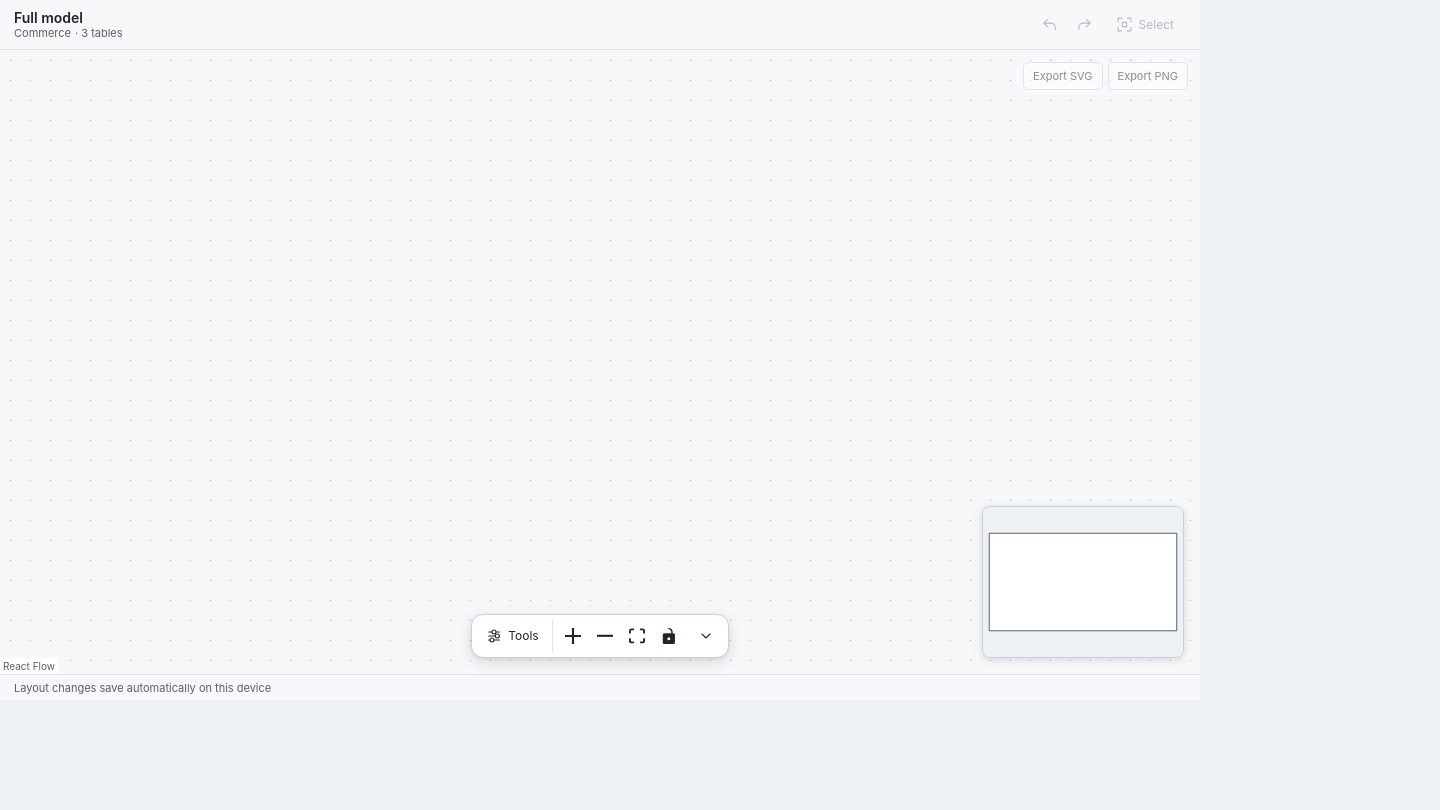
Scenario: Model relationship deletion › confirms manager deletion and drops the pending request when the source changes
Click the button with aria-label "Canvas tools" at (513, 636), box [477, 620, 548, 652]
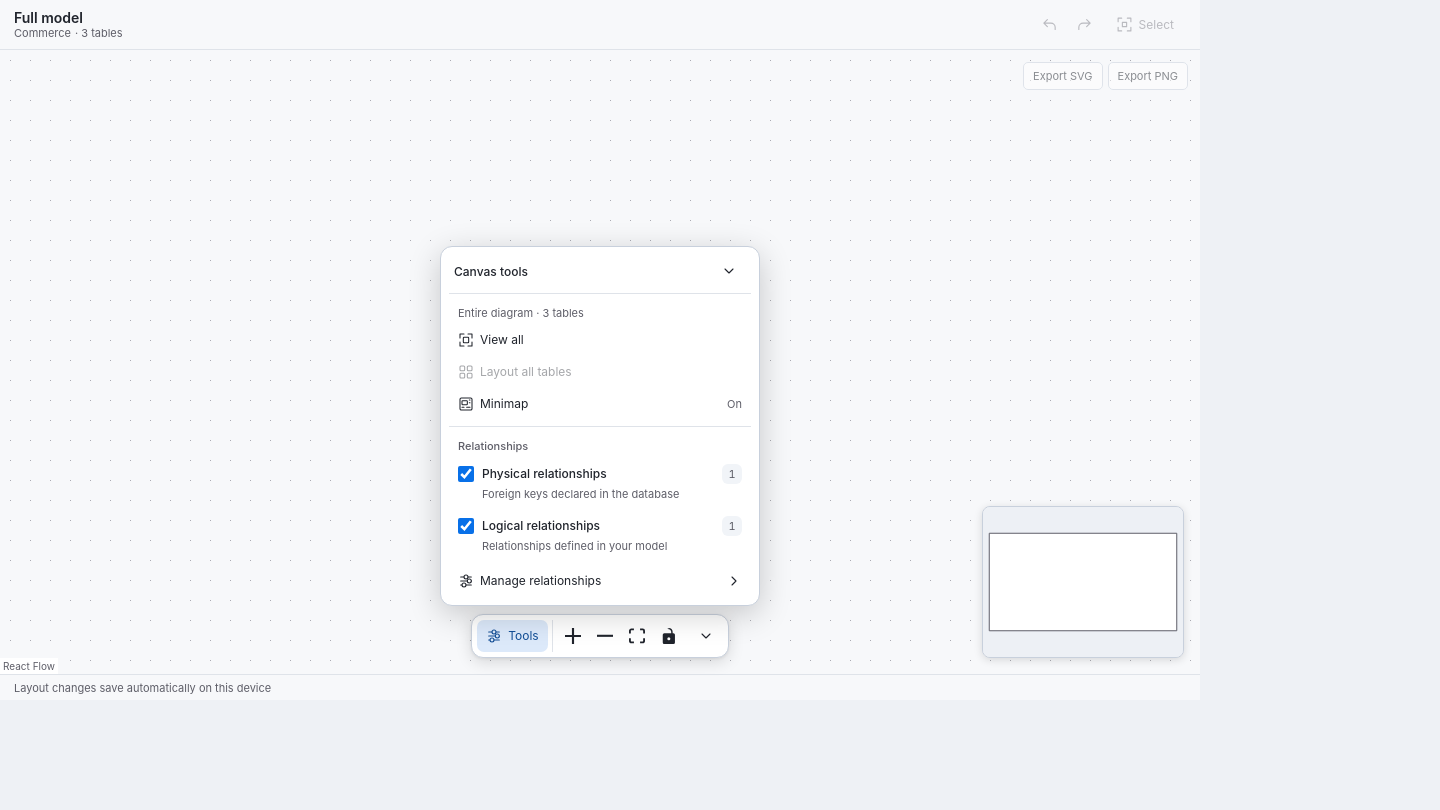
Click the button "Manage relationships" at (600, 581), box [449, 565, 751, 597]
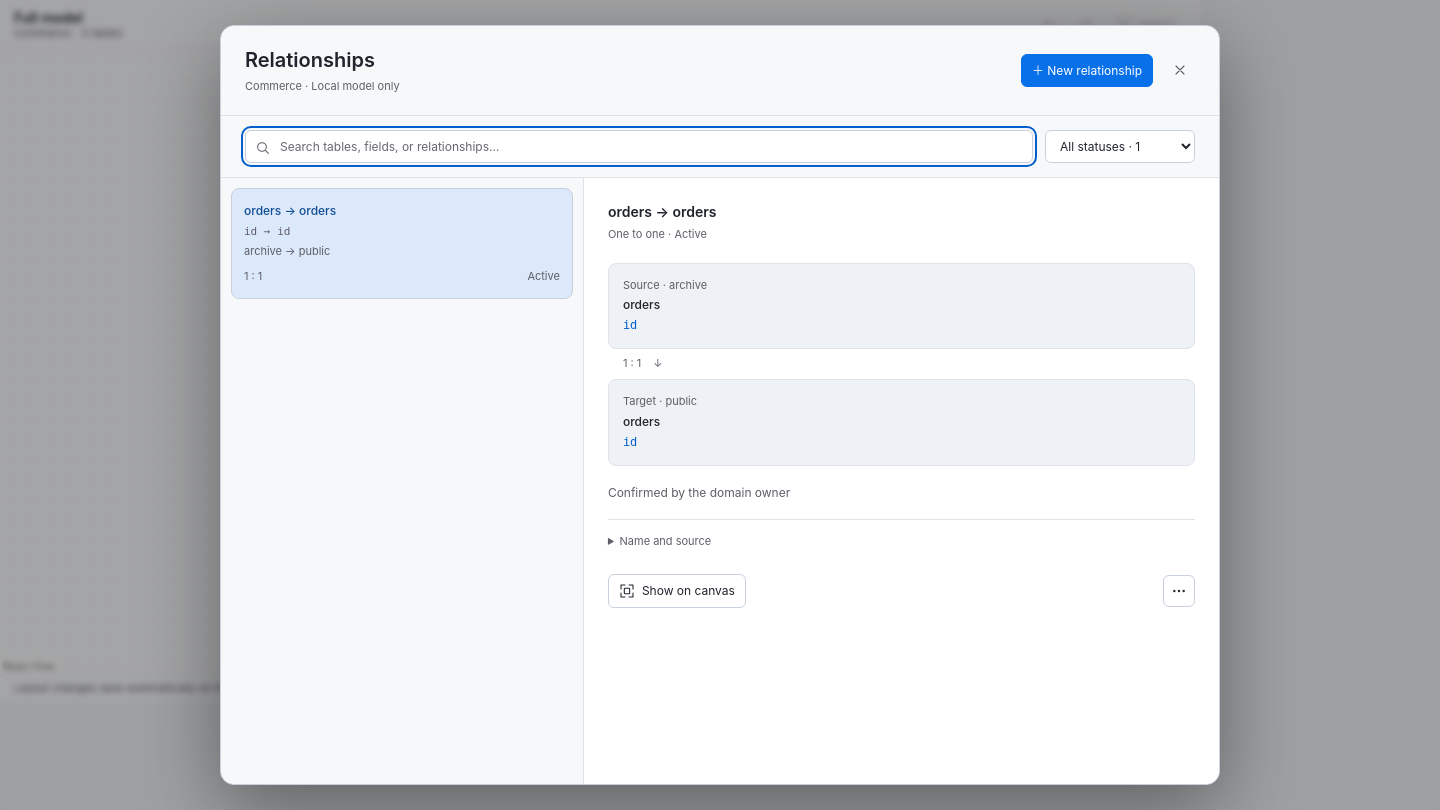
Click the heading named "More relationship actions" at (1179, 591), box [1163, 575, 1195, 607]
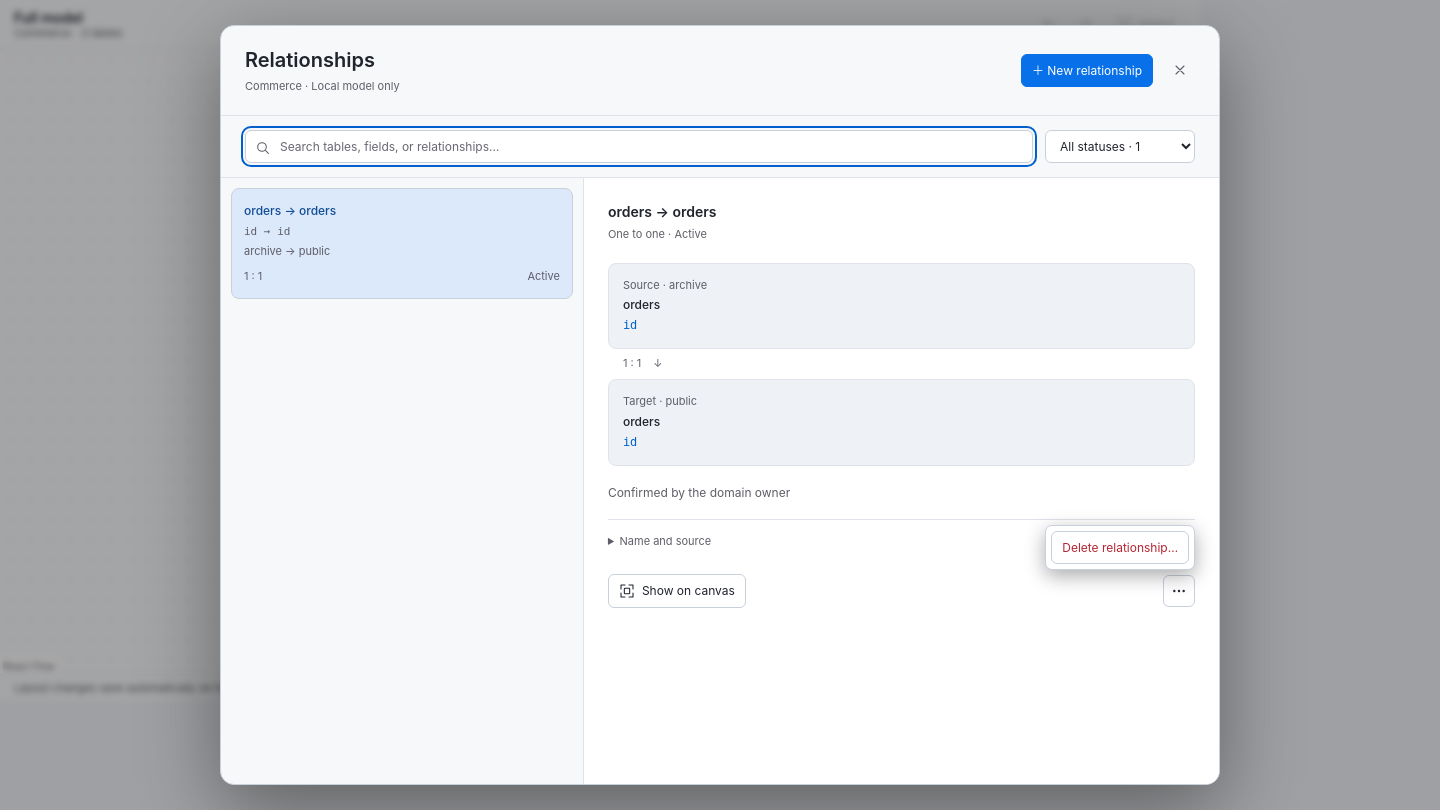
Click the button "Delete relationship…" at (1120, 547), box [1051, 530, 1189, 564]
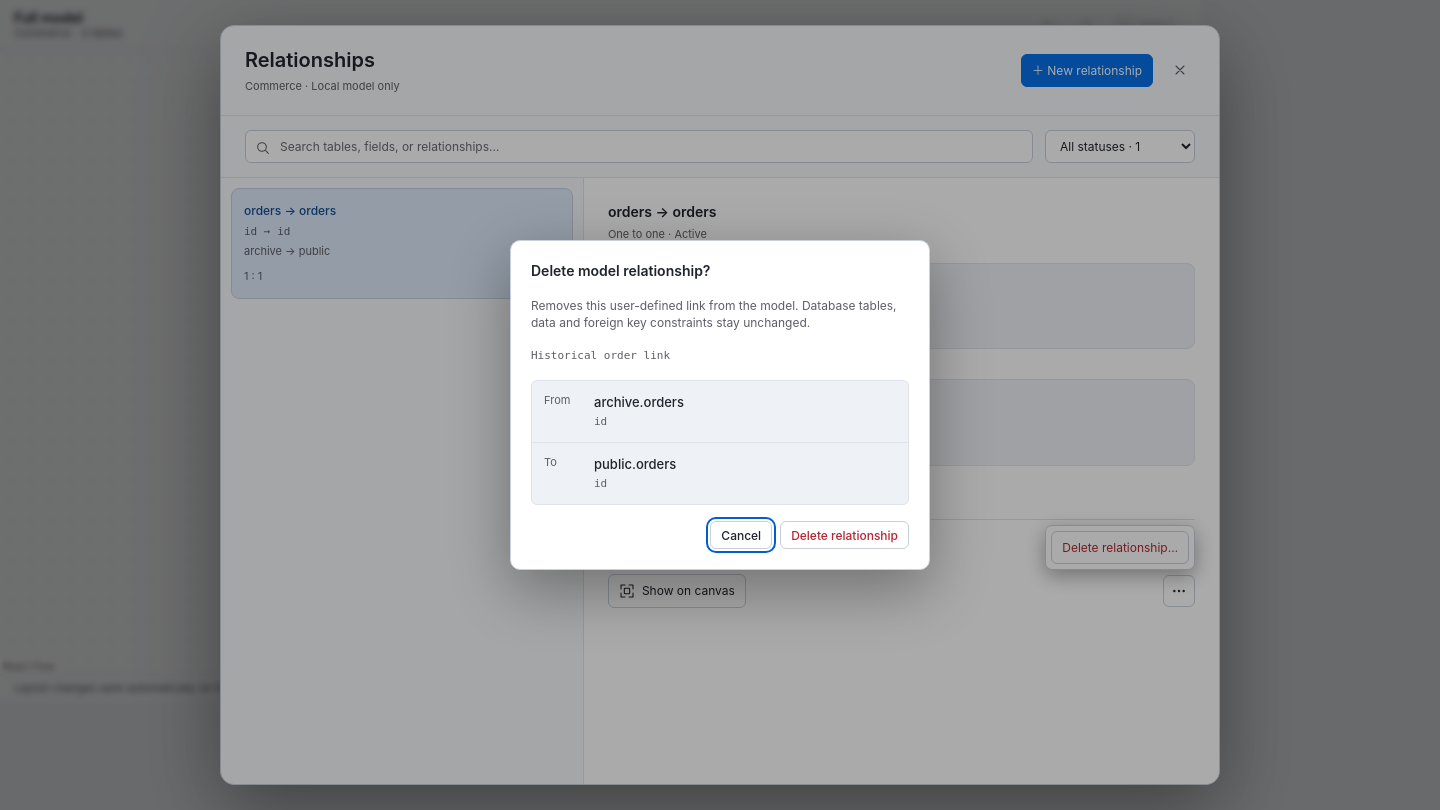
Now the dialog "Delete model relationship?" is shown, box [510, 240, 930, 570]
